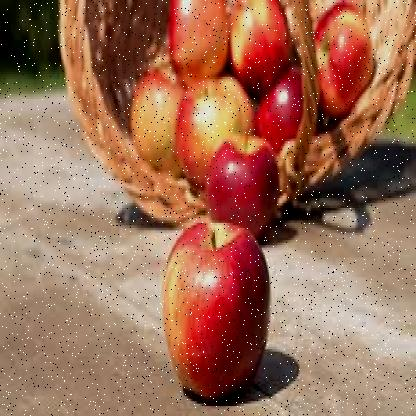apple: (160, 230, 276, 404), (198, 138, 278, 238), (308, 7, 382, 104), (176, 80, 250, 166), (255, 70, 323, 154), (225, 7, 295, 82), (128, 75, 182, 168), (167, 0, 228, 77)
